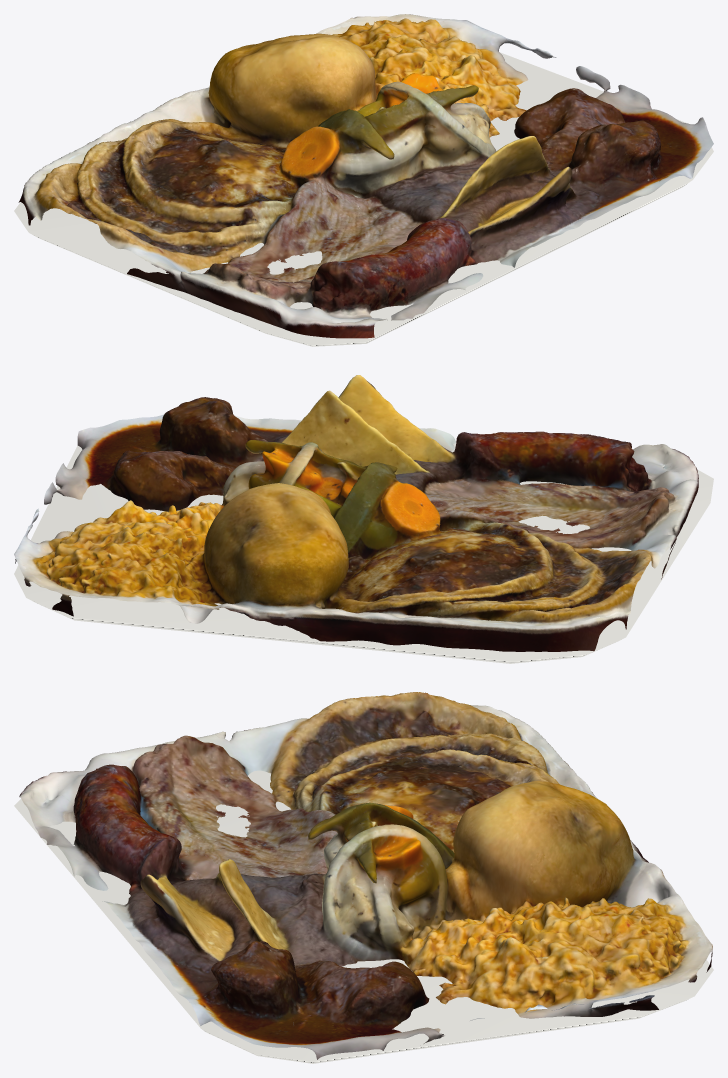
File: surtido-marce.glb
The picture shows the model from 3 angles, top to bottom: view 1: azimuth 30°, elevation 25°; view 2: azimuth 150°, elevation 25°; view 3: azimuth 270°, elevation 25°; orthographic projection. The views are drawn at different scales.
Parts seen in each view (by area): view 1: approximate-plate-scale, plate-base; view 2: approximate-plate-scale, plate-base; view 3: approximate-plate-scale, plate-base.
Part boxes in pixels (x1,y1,x2,y2): approximate-plate-scale: (18, 14, 713, 338); plate-base: (14, 52, 713, 346); approximate-plate-scale: (14, 375, 698, 651); plate-base: (14, 443, 713, 663); approximate-plate-scale: (19, 692, 712, 1059); plate-base: (14, 761, 713, 1063).
Bounding box in the file's own units: 0.4 × 0.0632 × 0.3561.
Materials: 2 (1 with a texture image).
